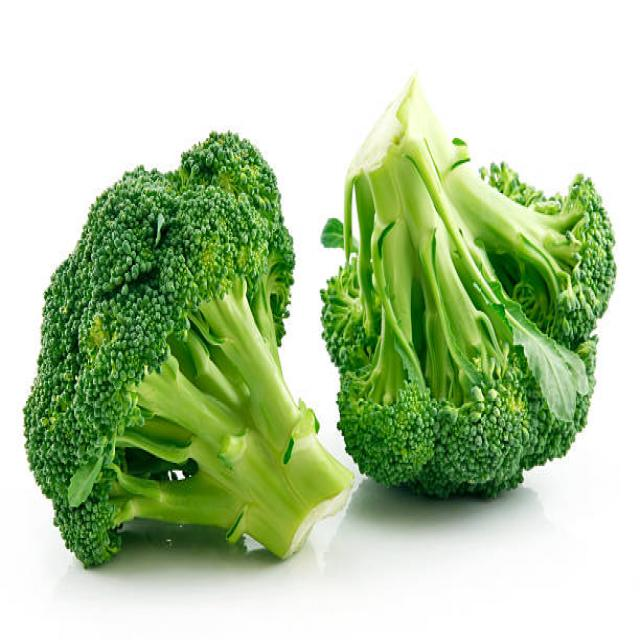broccoli: (6, 155, 319, 596), (320, 70, 627, 494)
